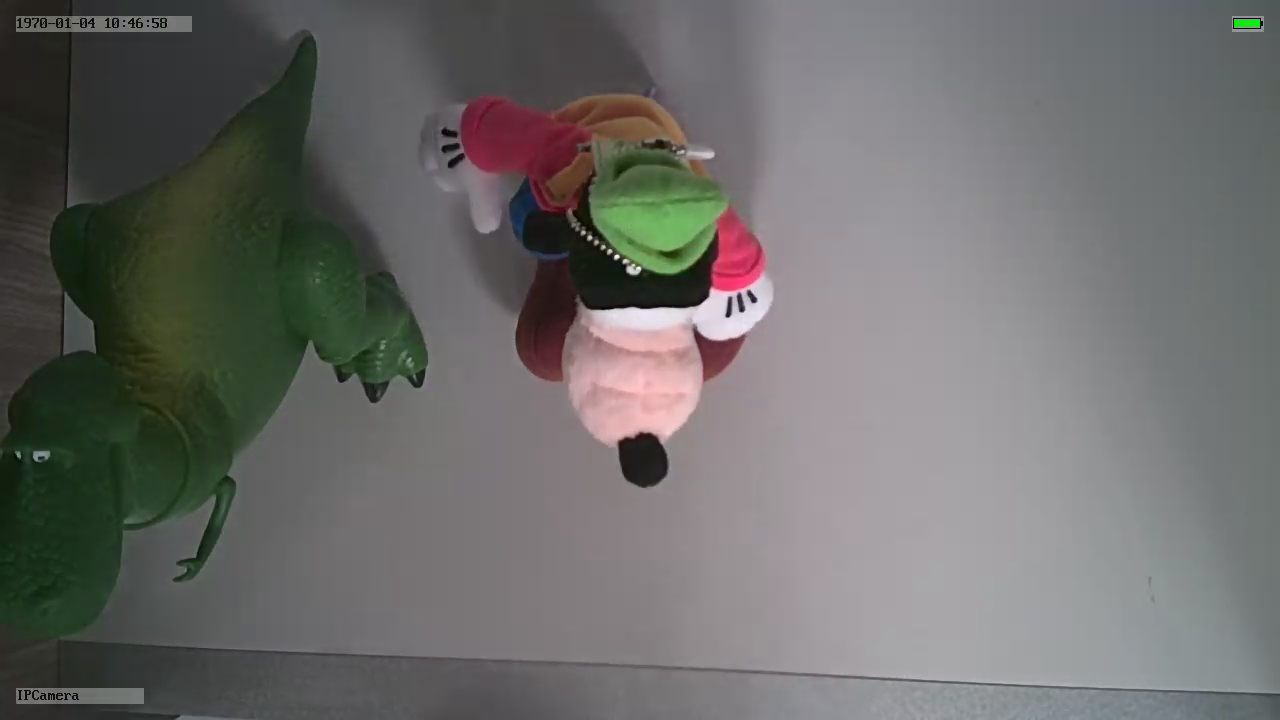goofy: (416, 92, 776, 487)
